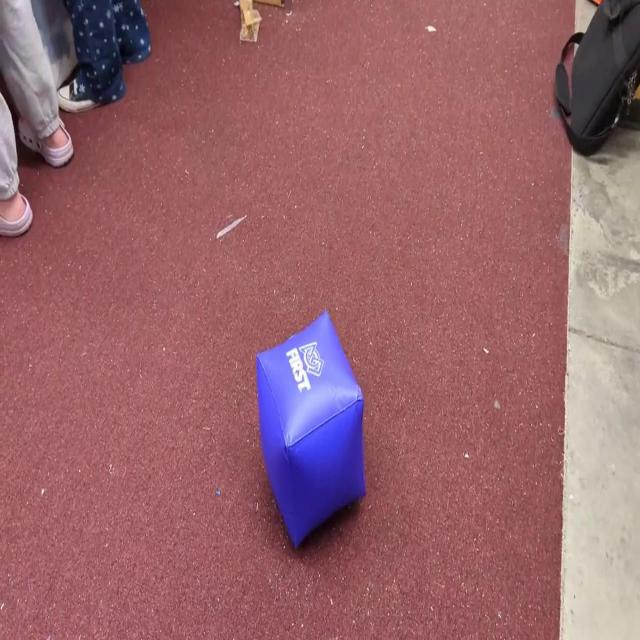frc_cube: (256, 308, 366, 550)
